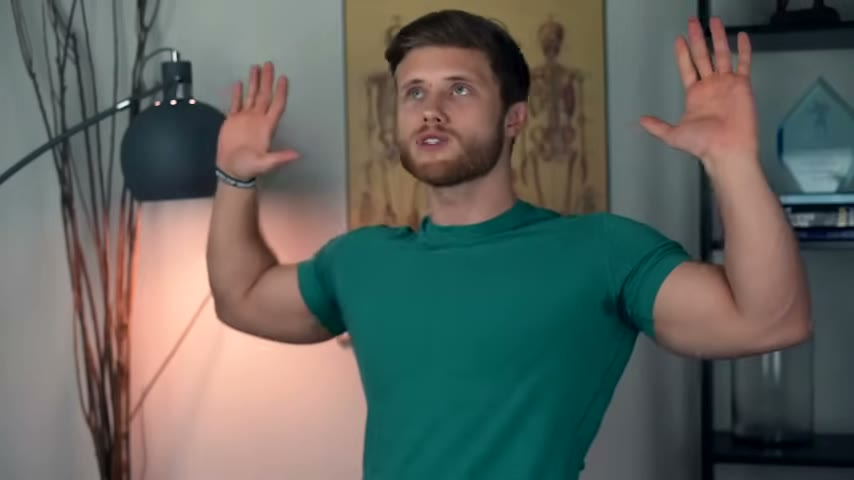barbell_plate_side: (112, 70, 239, 349)
